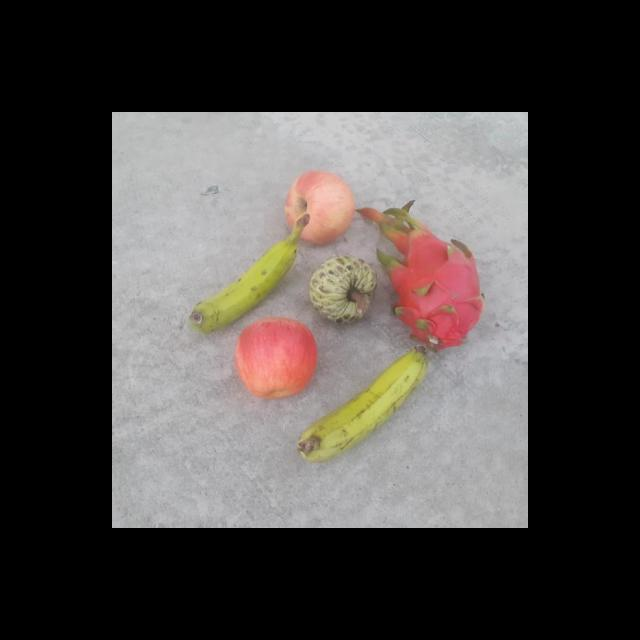Sakya fruit: (308, 252, 380, 326)
apple: (232, 317, 322, 401), (283, 168, 356, 246)
banana: (296, 344, 430, 462), (186, 214, 312, 333)
pitaya: (386, 222, 488, 354)
